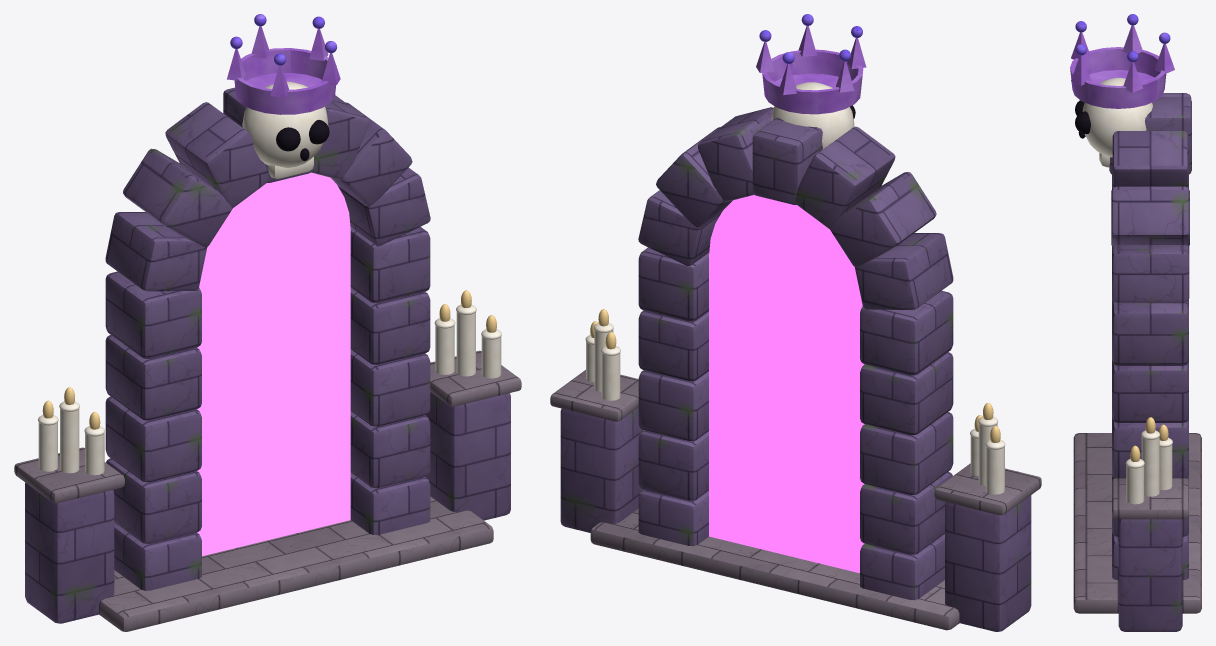
The model's file is GIN_UG_SkullPortal.fbx.
3 renders of one model, left to right at view 1: azimuth 30°, elevation 25°; view 2: azimuth 150°, elevation 25°; view 3: azimuth 270°, elevation 25°, orthographic. The views are drawn at different scales.
Parts seen in each view (by area): view 1: GIN_UG_SkullPortal; view 2: GIN_UG_SkullPortal; view 3: GIN_UG_SkullPortal.
Part boxes in pixels (x1,y1,x2,y2): GIN_UG_SkullPortal: [14, 14, 521, 631]; GIN_UG_SkullPortal: [550, 14, 1041, 631]; GIN_UG_SkullPortal: [1070, 14, 1201, 631].
Size of the model in its own units: 3.9 by 4.28 by 1.03.
